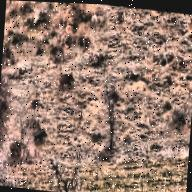boar: (51, 62, 80, 104)
